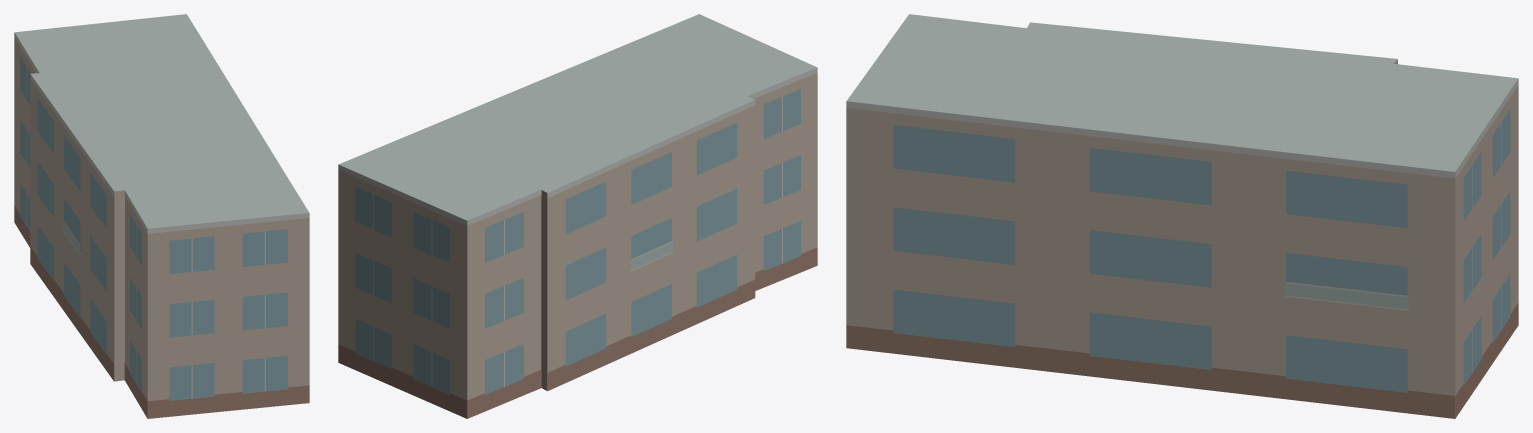
Rendered from survey-upis-32461883.glb.
3 views of the same model, side by side, from view 1: azimuth 30°, elevation 25°; view 2: azimuth 150°, elevation 25°; view 3: azimuth 270°, elevation 25° (orthographic). The views are drawn at different scales.
Parts seen in each view (by area): view 1: survey-upis-32461883.tmp; view 2: survey-upis-32461883.tmp; view 3: survey-upis-32461883.tmp.
Boxes of the visible parts, x1,y1,x2,y2 form: survey-upis-32461883.tmp: (14, 14, 309, 418); survey-upis-32461883.tmp: (338, 14, 817, 418); survey-upis-32461883.tmp: (846, 14, 1518, 418).
Bounding box in the file's own units: 12.57 × 9.15 × 22.59.
